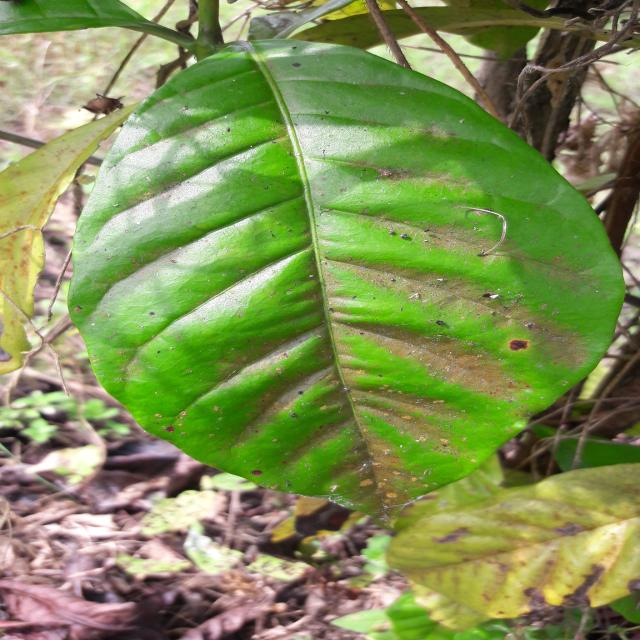Plaga-AranaRoja: (65, 41, 626, 537)
